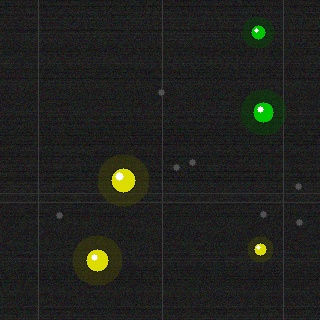green_normal: (251, 100, 275, 124), (249, 23, 267, 41)
yellow_warning: (109, 166, 137, 194), (84, 247, 110, 273), (252, 241, 268, 257)
